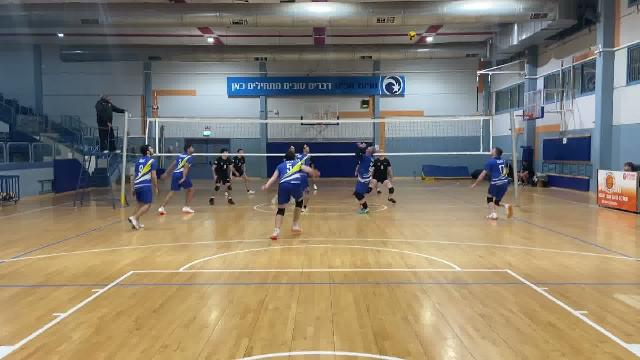ball: (407, 32, 417, 43)
